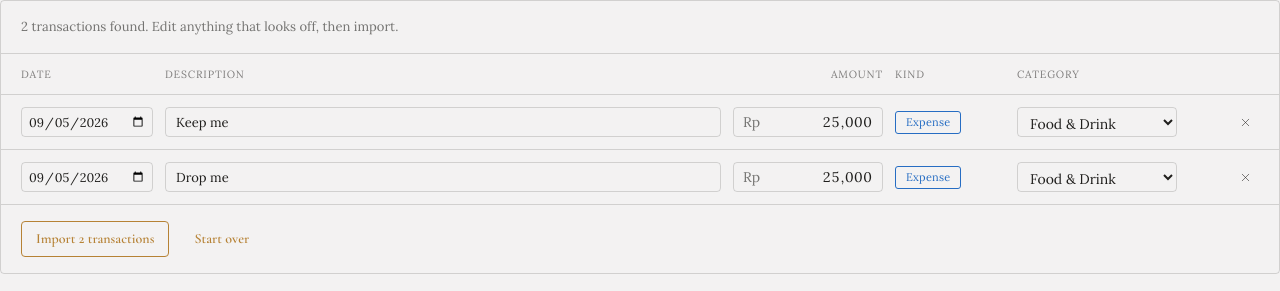
ImportReview row removal › removes a row and updates the count
Click the 2nd button named "Remove row" at x=1245, y=177, box [1231,163,1259,191]
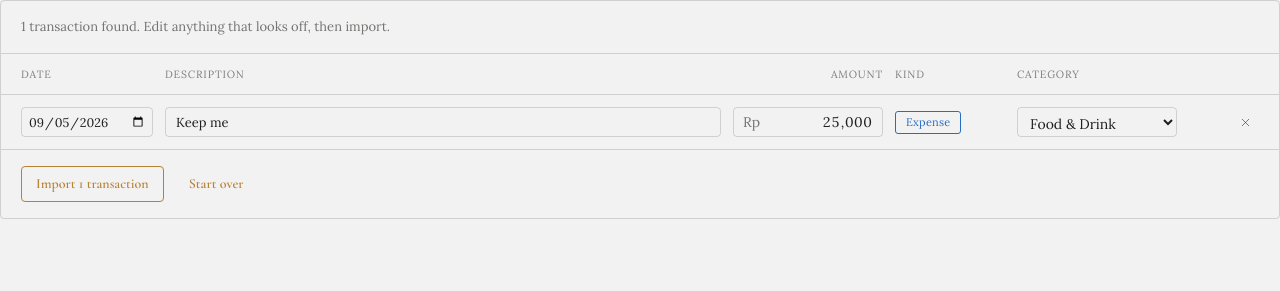
Expected: the field showing "Drop me" is not shown
Expected: the button "Import 1 transaction" is shown, [21,166,164,202]
